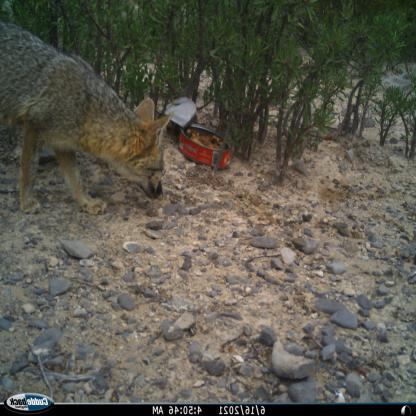zorro: (0, 15, 168, 231)
